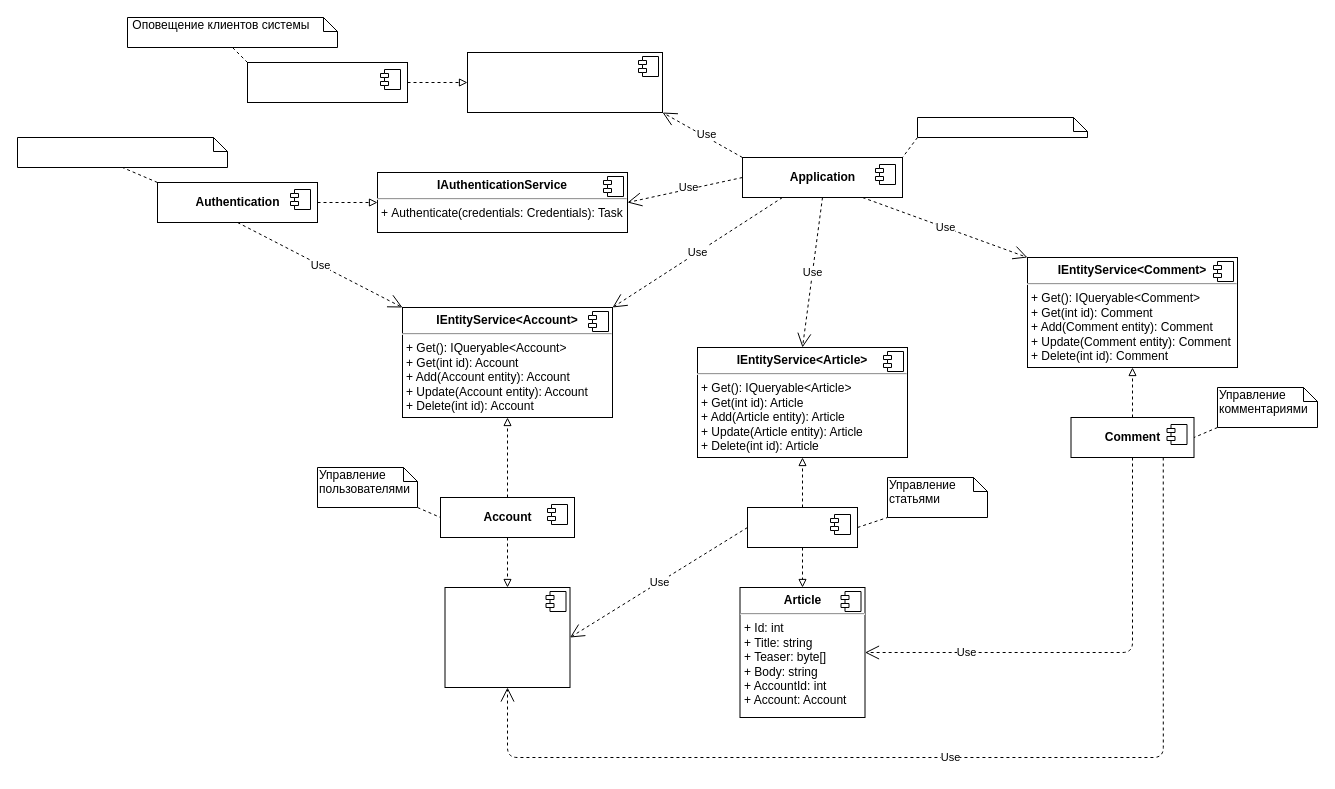
Image size: 1335x789. Some labels were removed from this diagram. The centre of each missing label's shape, as x and y in pixels:
"Account + Id: int + Login: string + Password: string + Salt: string" belongs at point (507, 637).
"Article" belongs at point (802, 527).
"I Notification Service + Send(message: string): Task" belongs at point (564, 82).
"Notification" belongs at point (327, 82).
"Аутентификация пользователя" belongs at point (122, 152).
"Серверное приложение" belongs at point (1002, 127).
